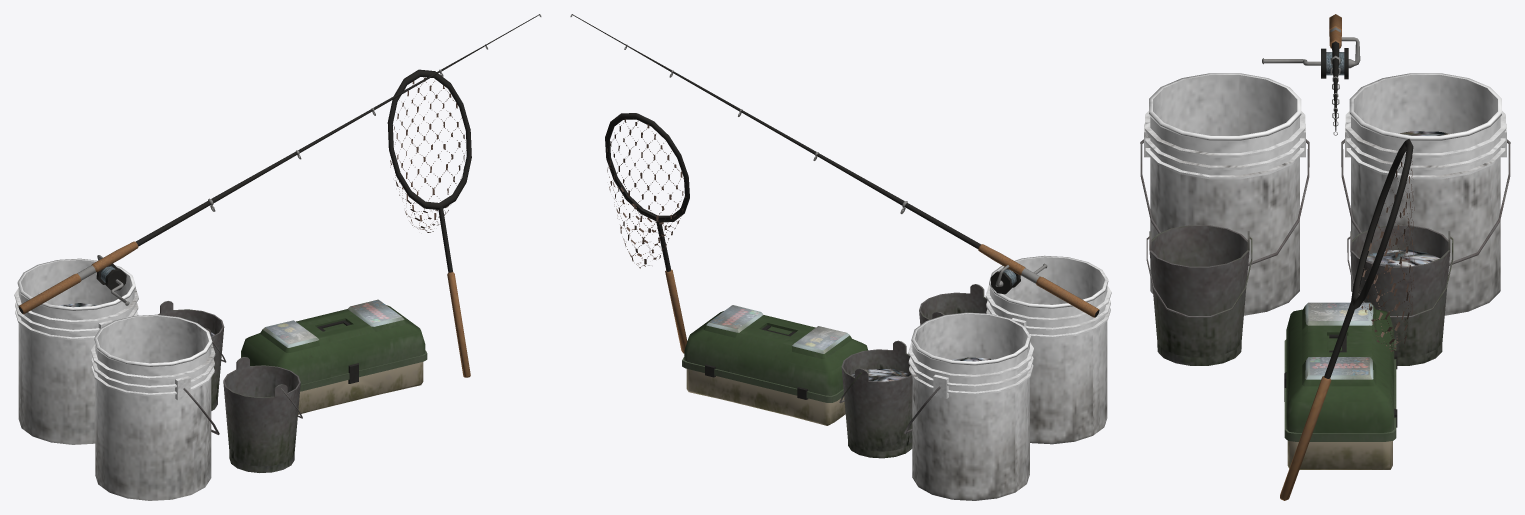
3 renders of one model, left to right at view 1: azimuth 30°, elevation 25°; view 2: azimuth 150°, elevation 25°; view 3: azimuth 270°, elevation 25°, orthographic. The views are drawn at different scales.
Visible parts, largest first — view 1: Plastic Bucket Empty_6, Plastic Bucket (Full)_3, Tackle Box_1, Metal Bucket (Empty)_5, Fishing Net_4, Fishing Pole_0, Metal Bucket (Full)_2; view 2: Plastic Bucket (Full)_3, Plastic Bucket Empty_6, Tackle Box_1, Metal Bucket (Full)_2, Fishing Net_4, Fishing Pole_0, Metal Bucket (Empty)_5; view 3: Plastic Bucket Empty_6, Plastic Bucket (Full)_3, Tackle Box_1, Metal Bucket (Empty)_5, Metal Bucket (Full)_2, Fishing Net_4, Fishing Pole_0.
Boxes of the visible parts, x1=… form: Plastic Bucket Empty_6: x1=91, y1=314, x2=219, y2=500; Plastic Bucket (Full)_3: x1=14, y1=258, x2=138, y2=444; Tackle Box_1: x1=241, y1=299, x2=427, y2=414; Metal Bucket (Empty)_5: x1=223, y1=357, x2=302, y2=472; Fishing Net_4: x1=387, y1=69, x2=471, y2=377; Fishing Pole_0: x1=18, y1=14, x2=541, y2=314; Metal Bucket (Full)_2: x1=158, y1=301, x2=226, y2=410; Plastic Bucket (Full)_3: x1=904, y1=312, x2=1033, y2=500; Plastic Bucket Empty_6: x1=985, y1=255, x2=1111, y2=444; Tackle Box_1: x1=682, y1=305, x2=867, y2=425; Metal Bucket (Full)_2: x1=839, y1=340, x2=912, y2=458; Fishing Net_4: x1=605, y1=113, x2=689, y2=353; Fishing Pole_0: x1=570, y1=14, x2=1099, y2=317; Metal Bucket (Empty)_5: x1=919, y1=284, x2=987, y2=324; Plastic Bucket Empty_6: x1=1140, y1=73, x2=1309, y2=315; Plastic Bucket (Full)_3: x1=1341, y1=73, x2=1510, y2=315; Tackle Box_1: x1=1284, y1=302, x2=1397, y2=469; Metal Bucket (Empty)_5: x1=1146, y1=225, x2=1252, y2=365; Metal Bucket (Full)_2: x1=1347, y1=225, x2=1453, y2=365; Fishing Net_4: x1=1280, y1=139, x2=1414, y2=500; Fishing Pole_0: x1=1262, y1=14, x2=1360, y2=135.
Size of the model in its own units: 124 by 74.2 by 58.
1 material, 1 textured.
